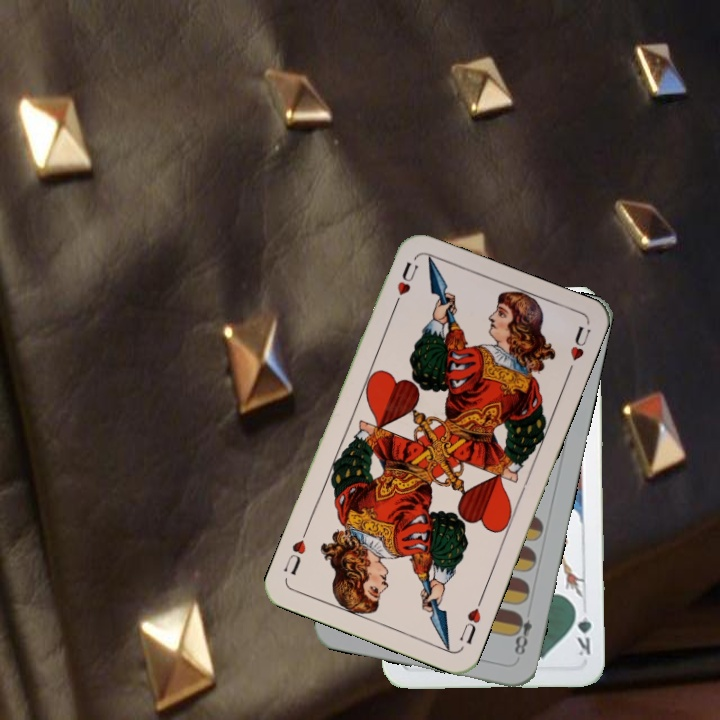E8: (509, 609, 535, 662)
GK: (571, 602, 594, 659)
HU: (389, 257, 421, 312), (455, 593, 486, 647)
